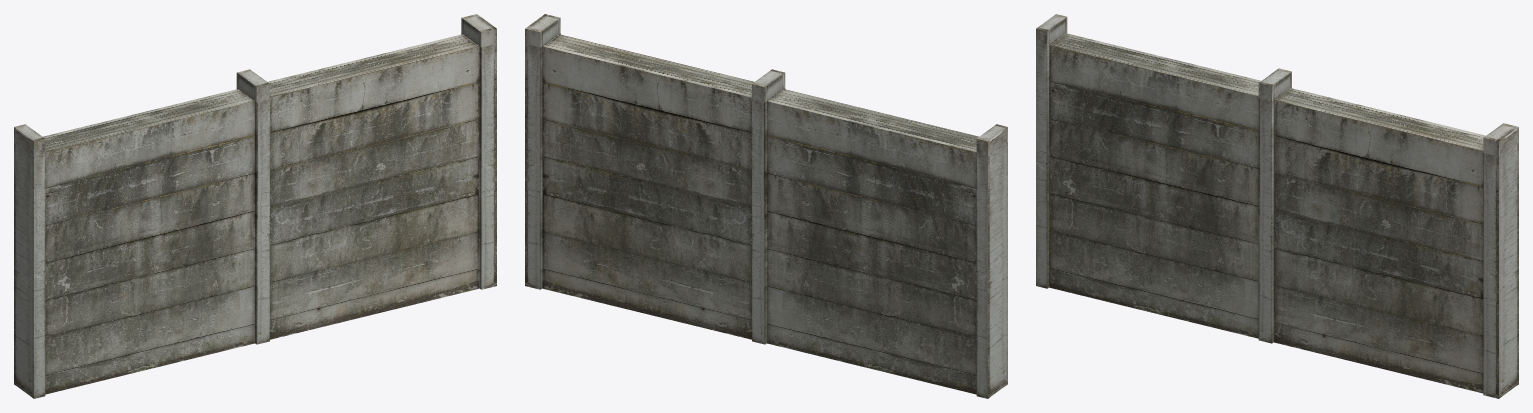
Rendered from Gate.fbx.
The picture shows the model from 3 angles, left to right: view 1: azimuth 30°, elevation 25°; view 2: azimuth 150°, elevation 25°; view 3: azimuth 330°, elevation 25°; orthographic projection.
Parts seen in each view (by area): view 1: Cube; view 2: Cube; view 3: Cube.
Boxes of the visible parts, x1,y1,x2,y2 form: Cube: (14, 14, 496, 398); Cube: (525, 14, 1007, 398); Cube: (1036, 14, 1518, 398).
Size of the model in its own units: 200 by 106 by 15.
